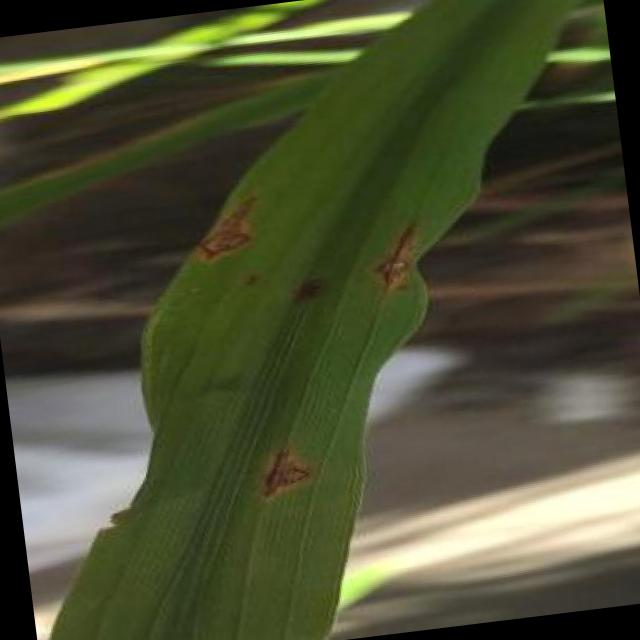Rice_Blast: (157, 171, 303, 287), (316, 195, 421, 310), (232, 423, 334, 525)
